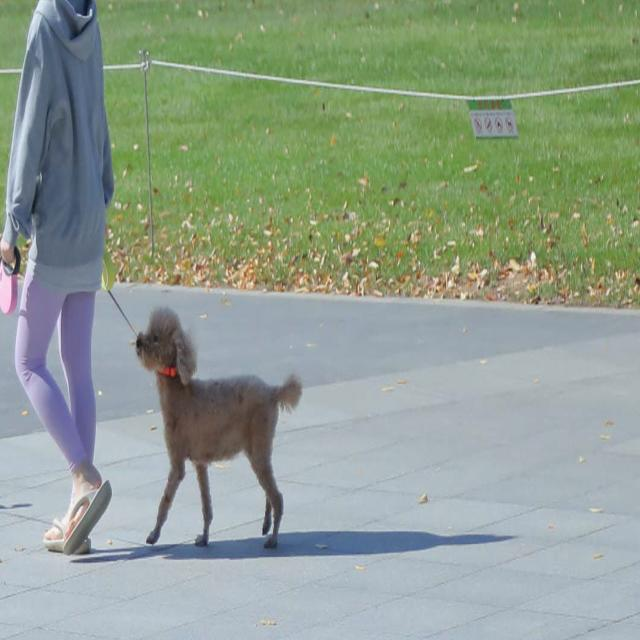Leashed_Dog: (71, 268, 304, 550)
